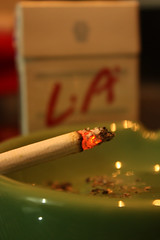cigarette: (0, 123, 117, 176)
